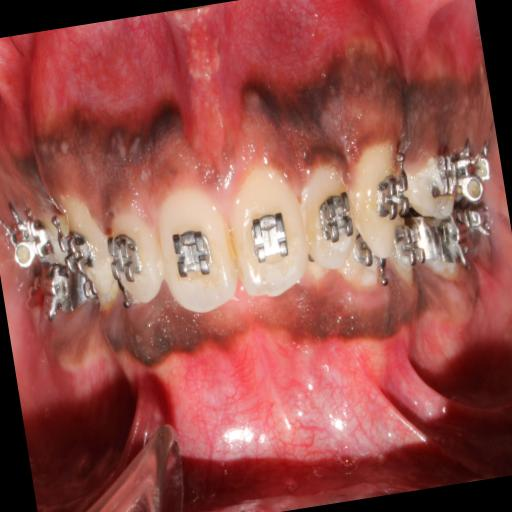correct_brace: (166, 218, 220, 290), (244, 205, 292, 264), (372, 171, 415, 226), (314, 190, 356, 246), (104, 226, 142, 287), (56, 220, 94, 278)
incorrect_brace: (100, 196, 168, 314), (293, 157, 362, 268)
